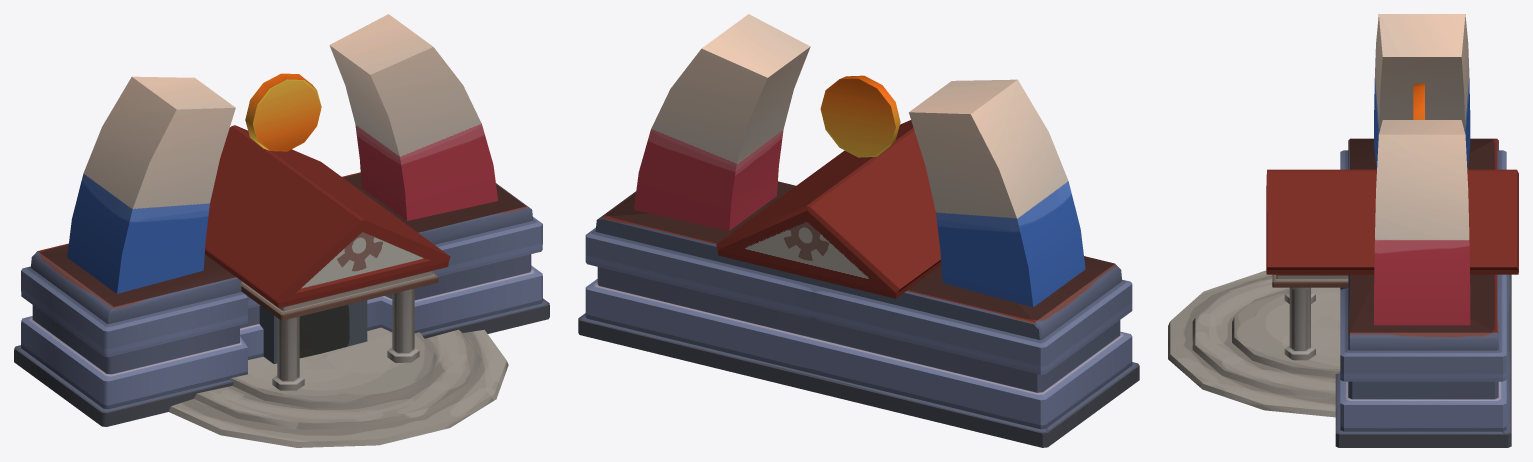
File: magnetcentral_bank.fbx
3 renders of one model, left to right at view 1: azimuth 30°, elevation 25°; view 2: azimuth 150°, elevation 25°; view 3: azimuth 270°, elevation 25°, orthographic. The views are drawn at different scales.
Parts seen in each view (by area): view 1: Bank_Mesh; view 2: Bank_Mesh; view 3: Bank_Mesh.
Boxes of the visible parts, x1,y1,x2,y2 form: Bank_Mesh: [14, 14, 549, 447]; Bank_Mesh: [578, 14, 1139, 447]; Bank_Mesh: [1168, 14, 1518, 447].
Size of the model in its own units: 11.28 by 6.7 by 7.94.
